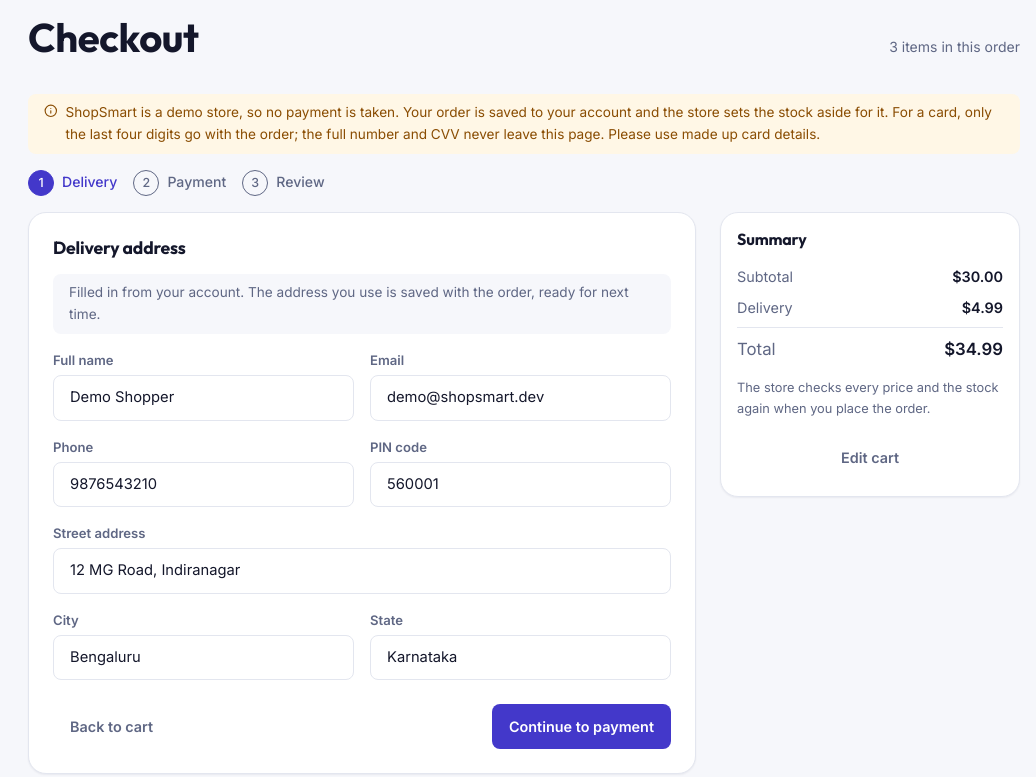
Scenario: Checkout › stops on the delivery step and focuses the first field the shopper must fix
Replace the text in the field labelled "Phone" with "12345": (204, 484) [53,462,354,507]
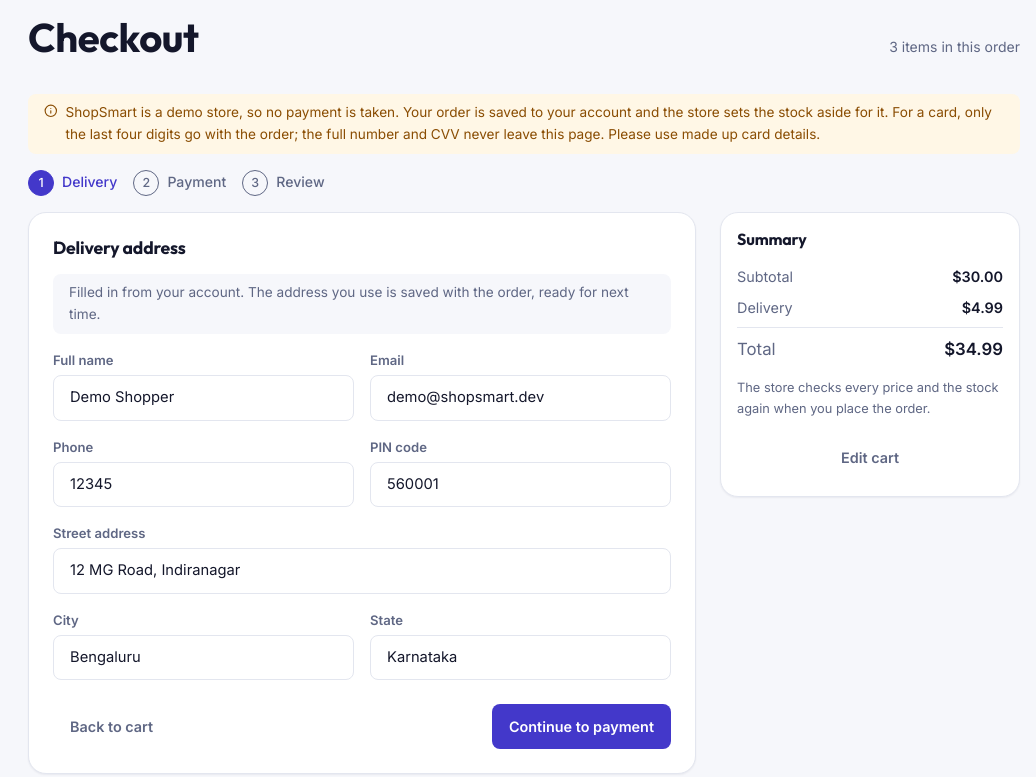
Click the button "Continue to payment": (581, 727) [492,704,671,749]
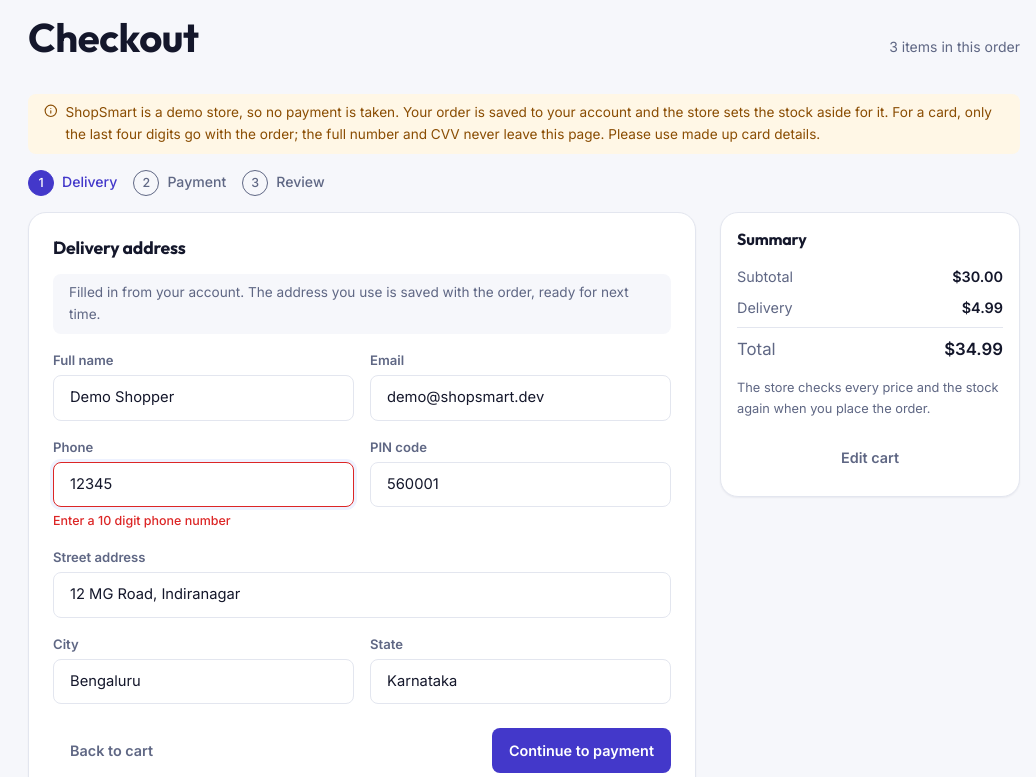
Check: the text "Enter a 10 digit phone number" is shown, box [53,513,231,528]
